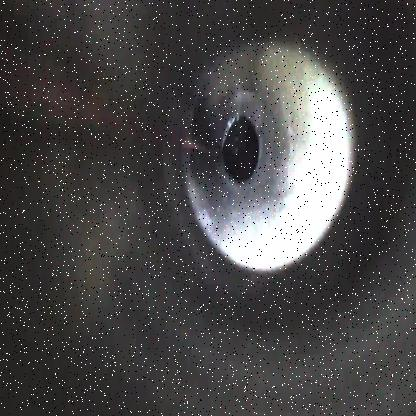NoCrack: (180, 39, 355, 272)
